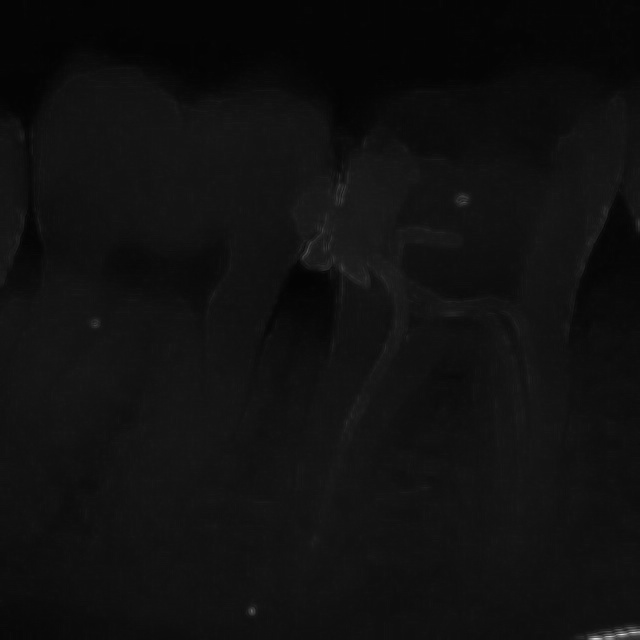Class 2- incomplete endodontic treatment: (278, 65, 632, 616)
